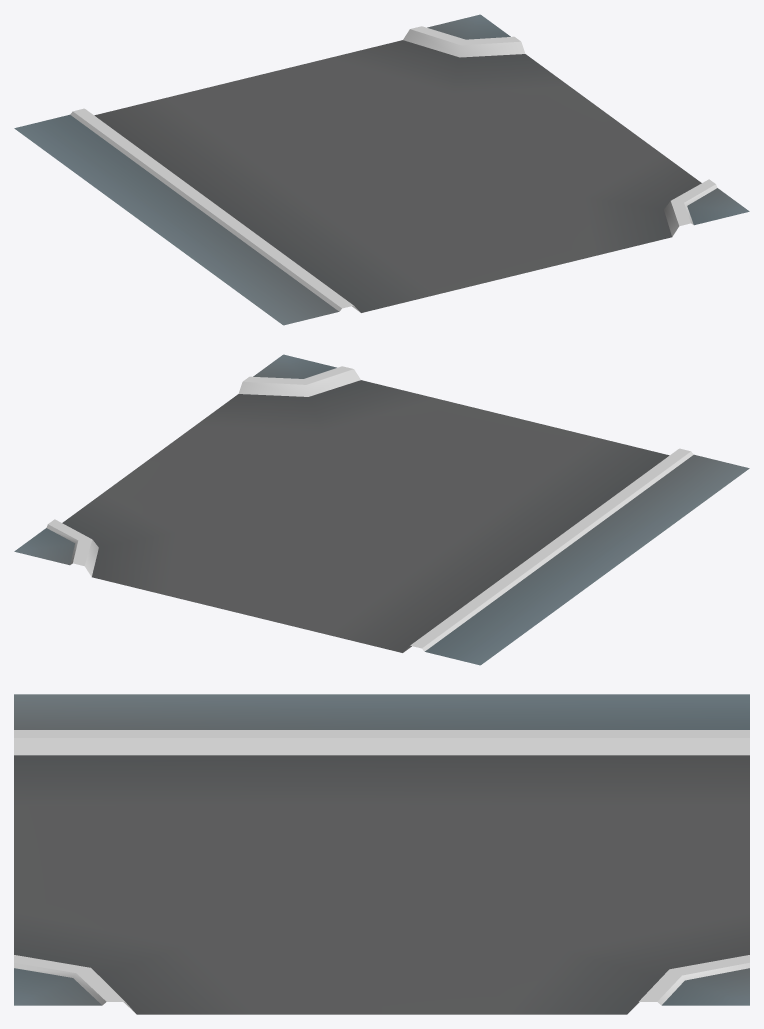
The model's file is SRoad01.fbx.
3 renders of one model, top to bottom at view 1: azimuth 30°, elevation 25°; view 2: azimuth 150°, elevation 25°; view 3: azimuth 270°, elevation 25°, orthographic. The views are drawn at different scales.
Parts seen in each view (by area): view 1: SRoad13.002; view 2: SRoad13.002; view 3: SRoad13.002.
Part boxes in pixels (<box>): SRoad13.002: <box>14,14,749,325</box>; SRoad13.002: <box>14,354,749,665</box>; SRoad13.002: <box>14,694,749,1014</box>.
Size of the model in its own units: 2 by 0.038 by 2.
